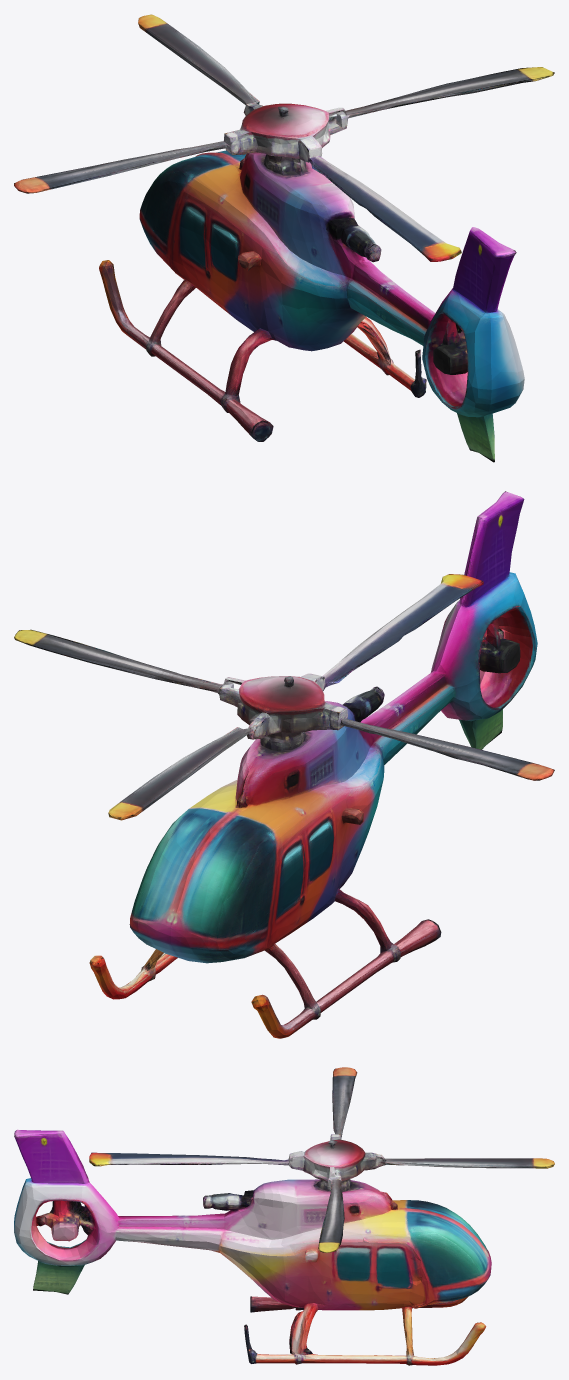
The model's file is typical_vehicle_helicopter_demo_trellis.glb.
3 views of the same model, one above another, from view 1: azimuth 30°, elevation 25°; view 2: azimuth 150°, elevation 25°; view 3: azimuth 270°, elevation 25° (orthographic). The views are drawn at different scales.
Parts seen in each view (by area): view 1: world; view 2: world; view 3: world.
Part boxes in pixels (x1,y1,x2,y2): world: (14,14,554,462); world: (14,491,554,1038); world: (14,1067,554,1365).
Bounding box in the file's own units: 0.8084 × 0.4285 × 1.
Materials: 1 (1 with a texture image).
